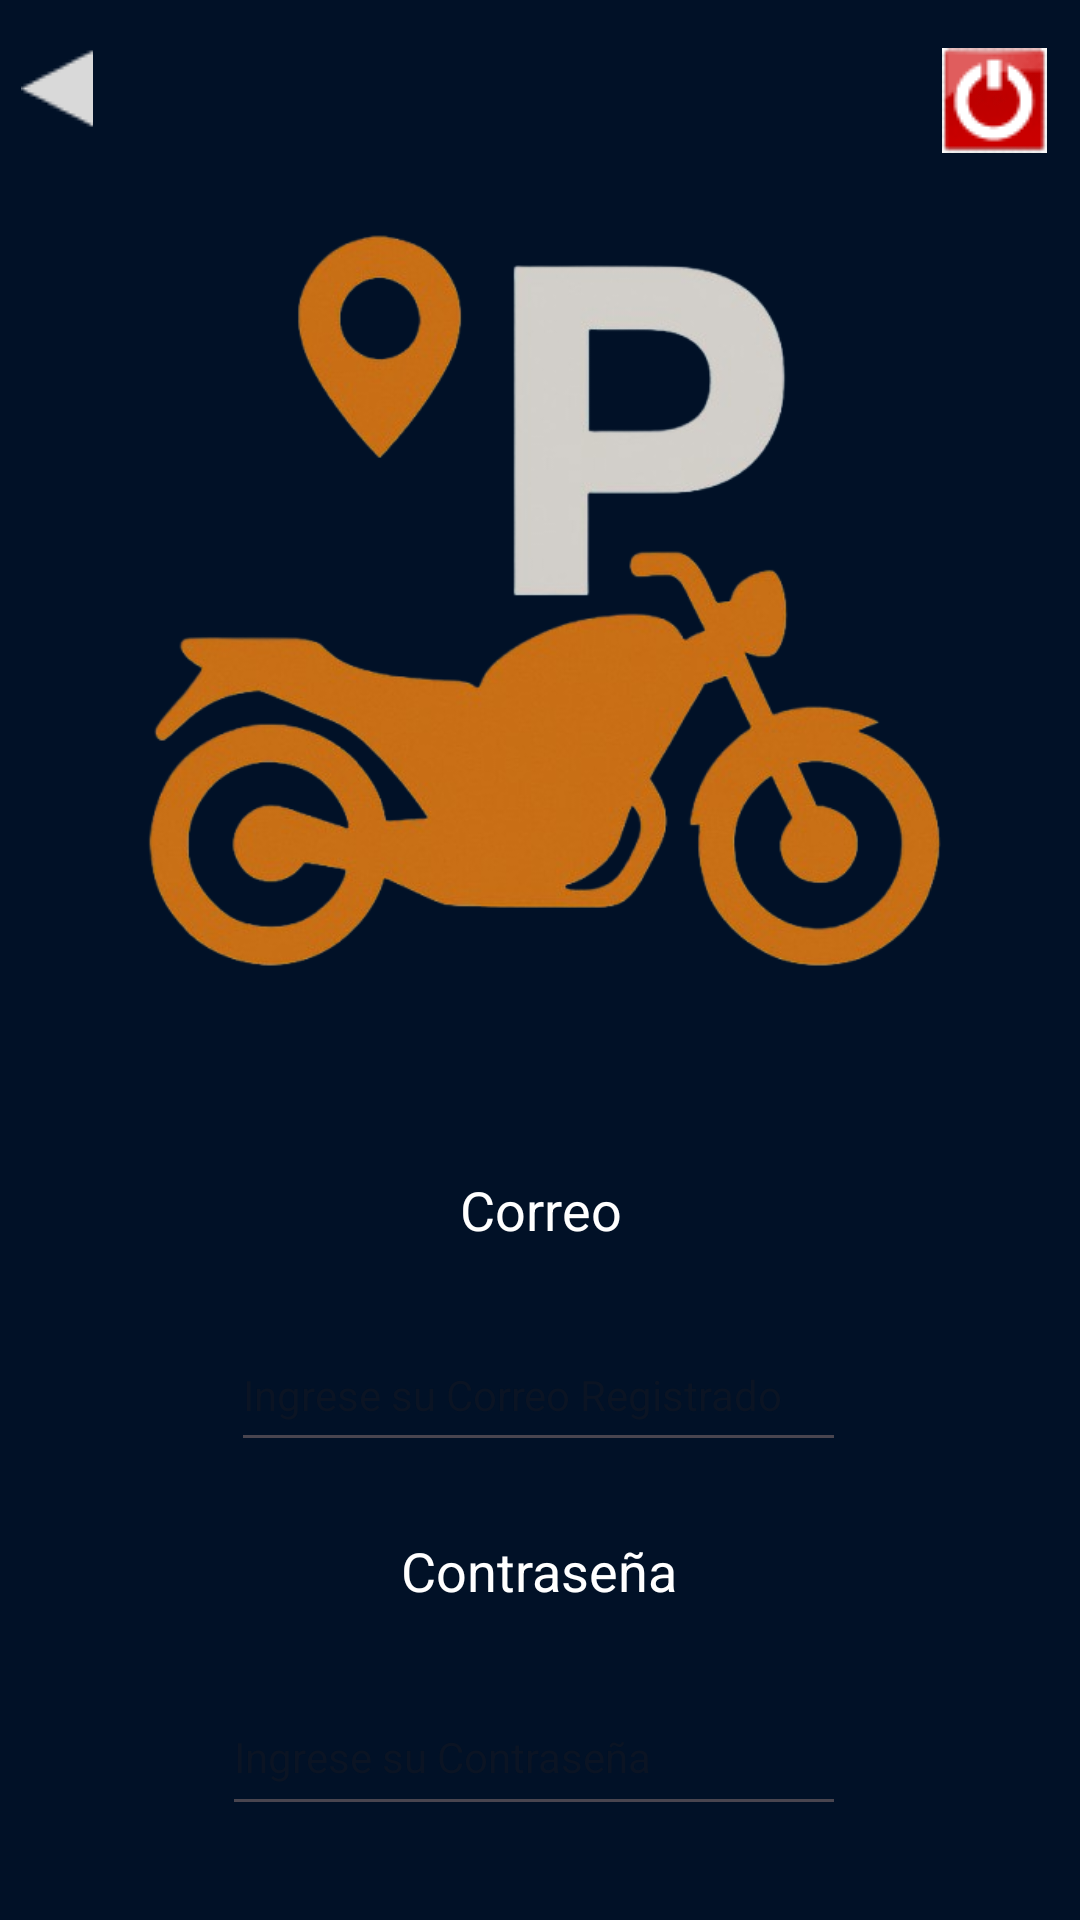

Named icons in this screenshot (1080x1920) and their centers, point (x, y):
polygon: point (57, 88)
